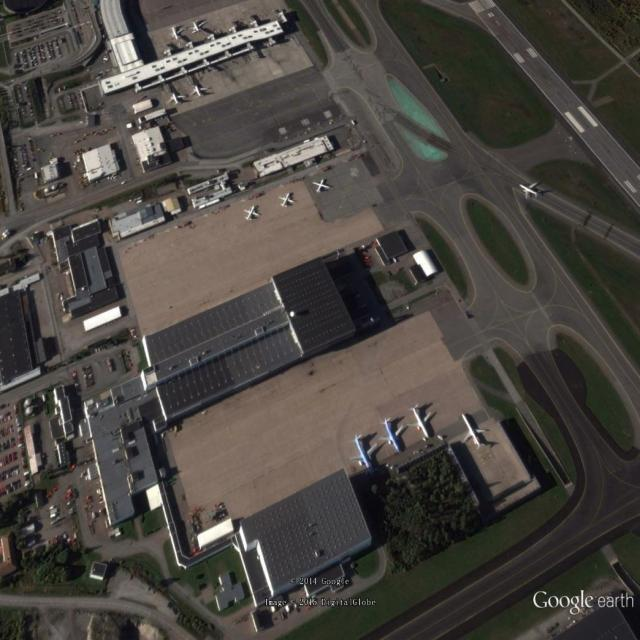aircraft: (347, 433, 384, 478), (459, 412, 492, 454), (405, 400, 437, 441), (376, 418, 409, 456), (518, 182, 545, 203), (187, 82, 210, 101), (311, 177, 332, 196), (277, 192, 297, 211), (241, 205, 262, 222), (167, 92, 189, 108), (190, 21, 208, 36), (170, 26, 186, 42)
